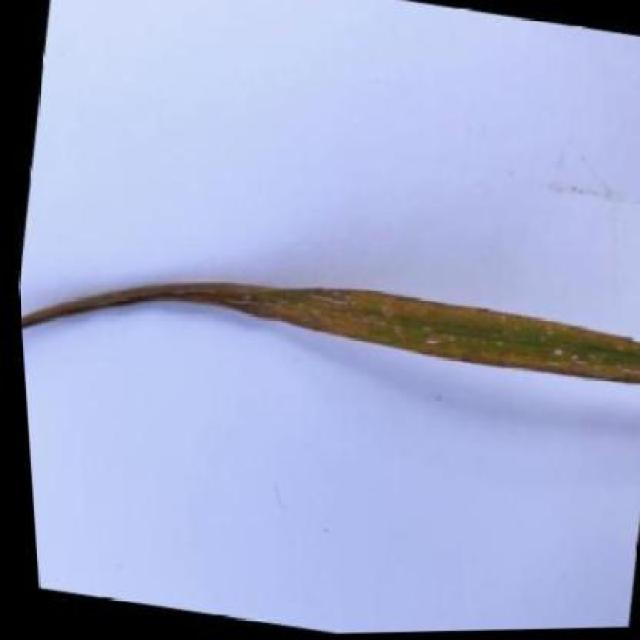Rice False Smut: (12, 225, 640, 490)
